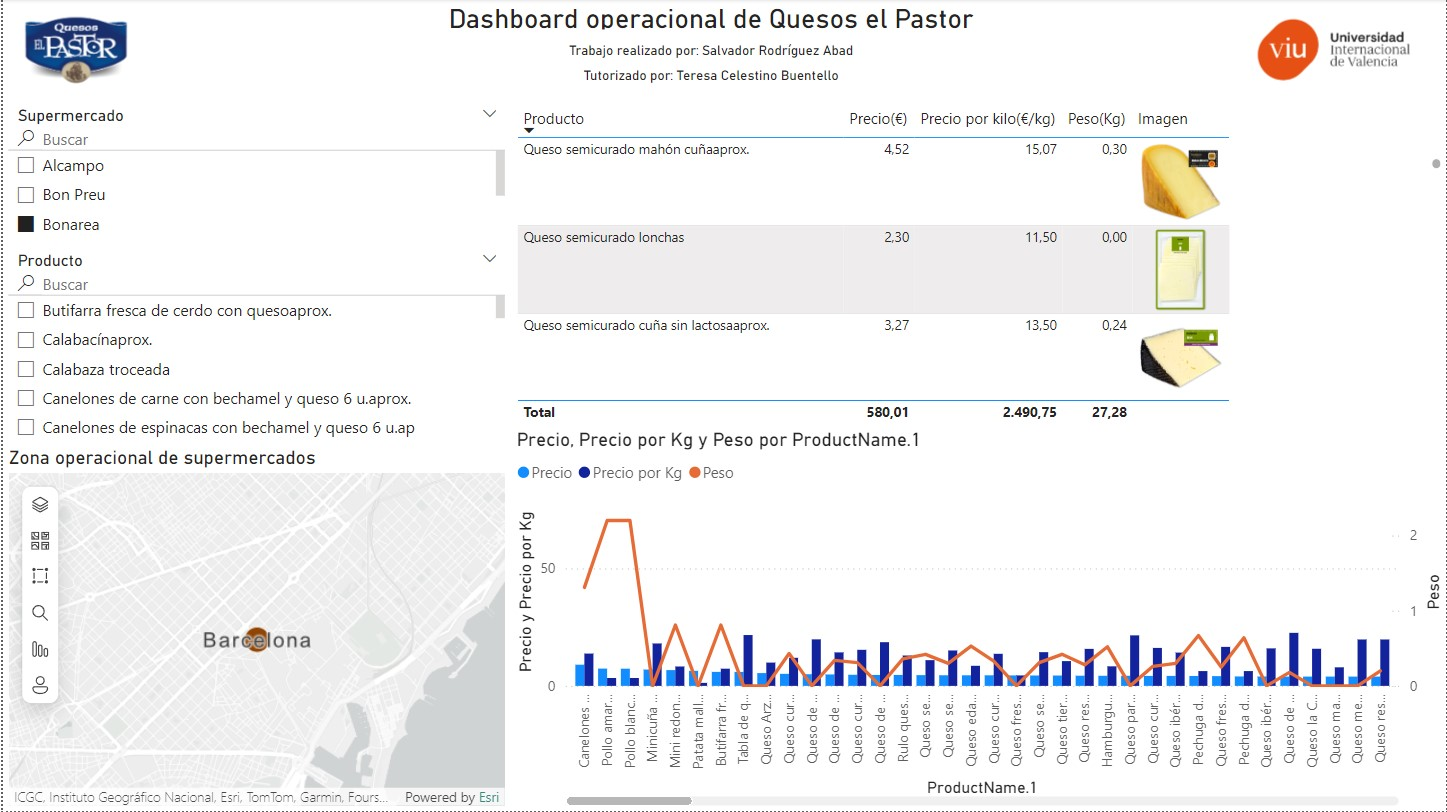

Layout of this report page (visuals, bound fields, positions):
{"tool":"powerbi","page":{"name":"Página 1","canvas":[1280,720],"ordinal":0},"visuals":[{"type":"slicer","fields":{"Values":["tfm supermarket.Name"]},"box":[0,90.4,450.4,128.6],"z":1},{"type":"slicer","fields":{"Values":["tfm supermarket_data.ProductName.1"]},"box":[0,219,450.4,177.3],"z":2},{"type":"tableEx","fields":{"Values":["tfm supermarket_data.ProductName.1","Sum(tfm supermarket_data.Price)","Sum(tfm supermarket_data.KGPrice)","Sum(tfm supermarket_data.Weight)","tfm supermarket_data.ImageURL"]},"box":[450.4,90.4,830,289.1],"z":3},{"type":"esriVisual","fields":{"Location":["tfm supermarket.Zone"],"Size":["CountNonNull(tfm supermarket.SupermarketID)"],"Color":["tfm supermarket.SupermarketID"]},"box":[0,396.4,450.4,323.6],"z":4},{"type":"lineClusteredColumnComboChart","fields":{"Category":["tfm supermarket_data.ProductName.1"],"Y":["Sum(tfm supermarket_data.Price)","Sum(tfm supermarket_data.KGPrice)"],"Y2":["Sum(tfm supermarket_data.Weight)"]},"box":[450,380,830,340],"z":5}]}

Visuals, with their boxes in screenshot pixels (x1, y1, x2, y2), scaled from the page's 1280x720 canvas onto the 1447x812 screenshot:
slicer - tfm supermarket.Name: select_region(0, 102, 509, 247)
slicer - tfm supermarket_data.ProductName.1: select_region(0, 247, 509, 447)
tableEx - tfm supermarket_data.ProductName.1 x Sum(tfm supermarket_data.Price): select_region(509, 102, 1446, 428)
esriVisual - tfm supermarket.Zone x CountNonNull(tfm supermarket.SupermarketID): select_region(0, 447, 509, 811)
lineClusteredColumnComboChart - tfm supermarket_data.ProductName.1 x Sum(tfm supermarket_data.Price): select_region(509, 429, 1446, 811)
